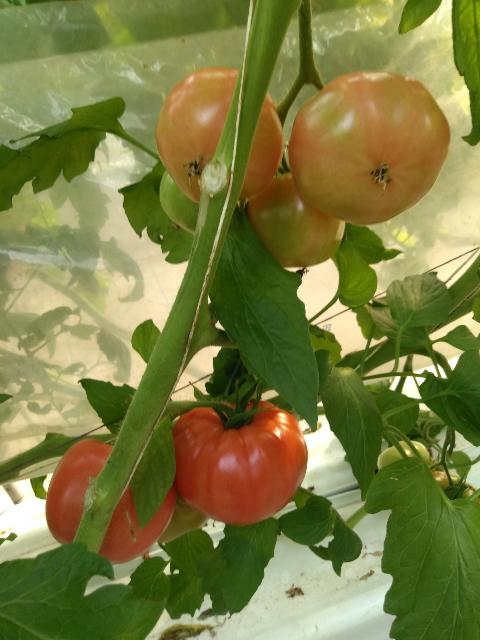b_fully_ripened: (171, 401, 309, 526), (45, 438, 177, 564)
b_green: (157, 486, 210, 543), (159, 169, 200, 234), (378, 440, 429, 470)
b_half_ripened: (288, 70, 451, 225), (155, 66, 285, 204), (246, 172, 347, 269), (430, 471, 479, 504)
